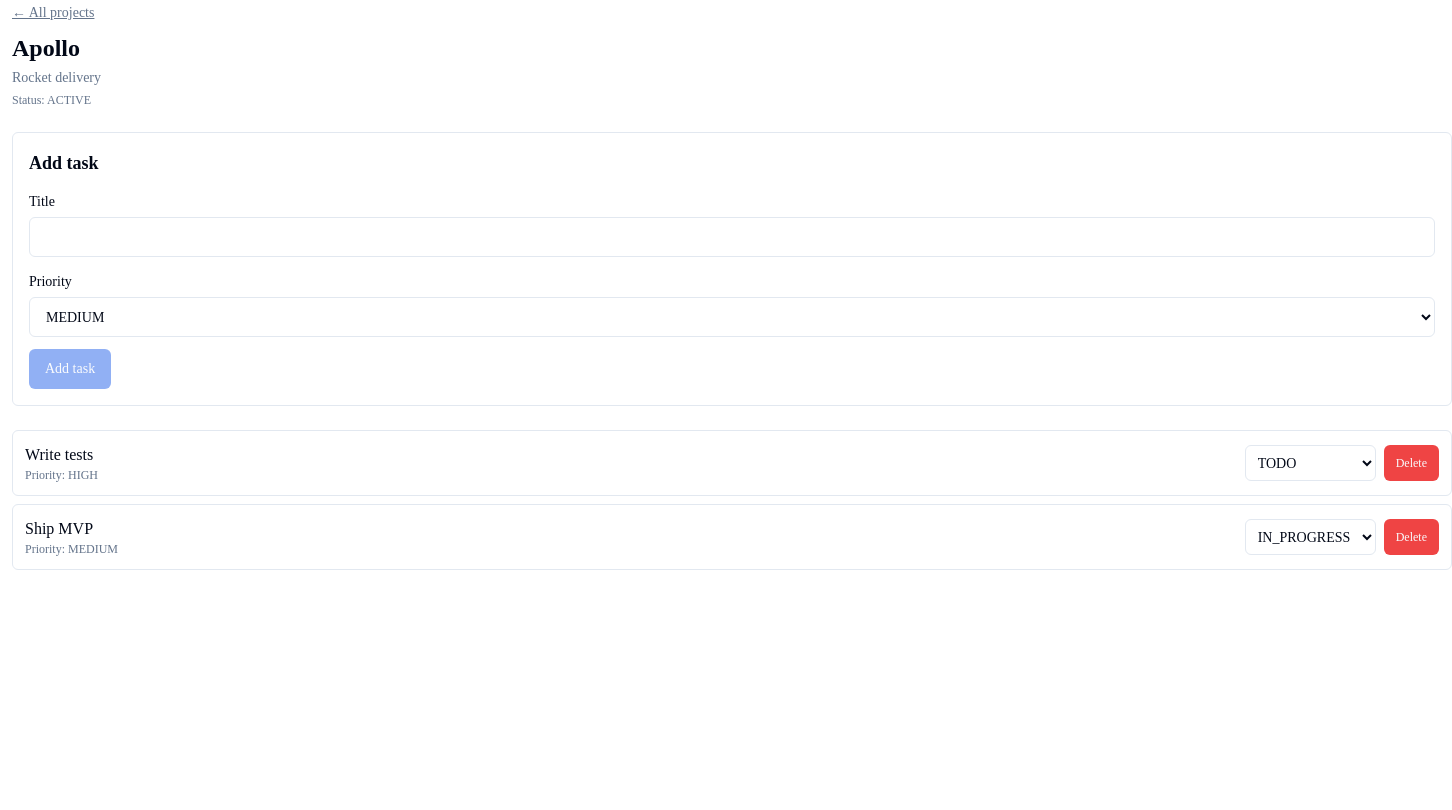
Test case: ProjectDetail › deletes a task after confirm
The image size is (1452, 810).
What coordinates should you click on to do the following:
click the button with test id "project-task-delete"
I would click on:
 (1411, 463)
Its box is [1384, 445, 1439, 481].
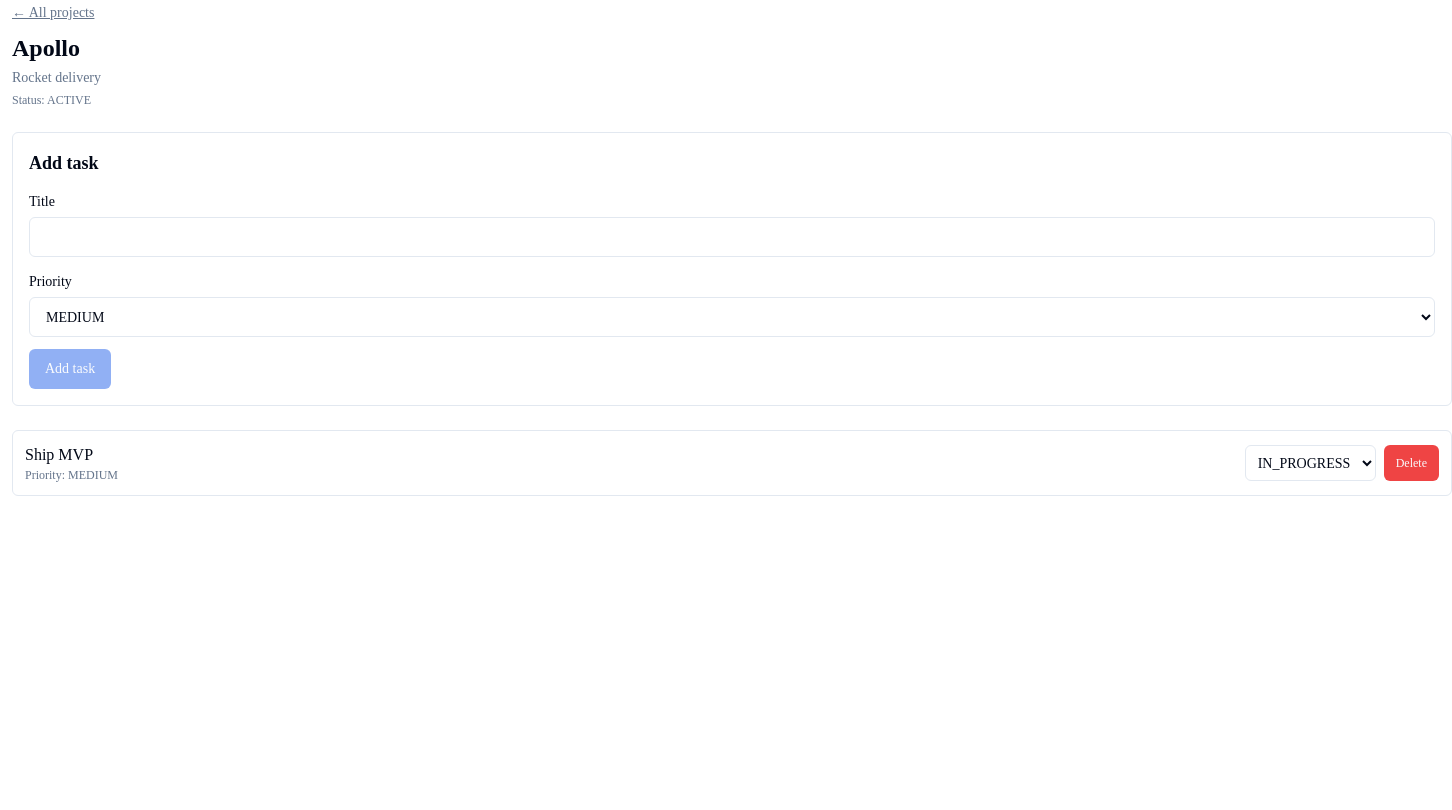
Expected: the number of list items with test id "project-task-row" is 1, [12, 430, 1451, 496]
